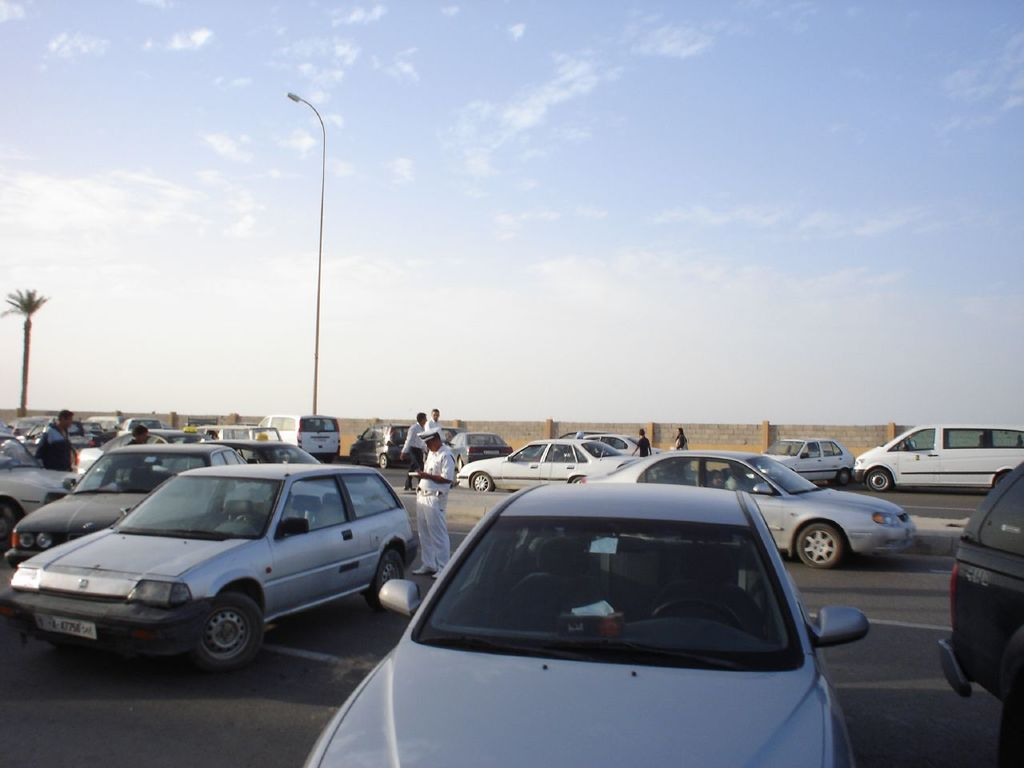Car: (0, 414, 1023, 767)
